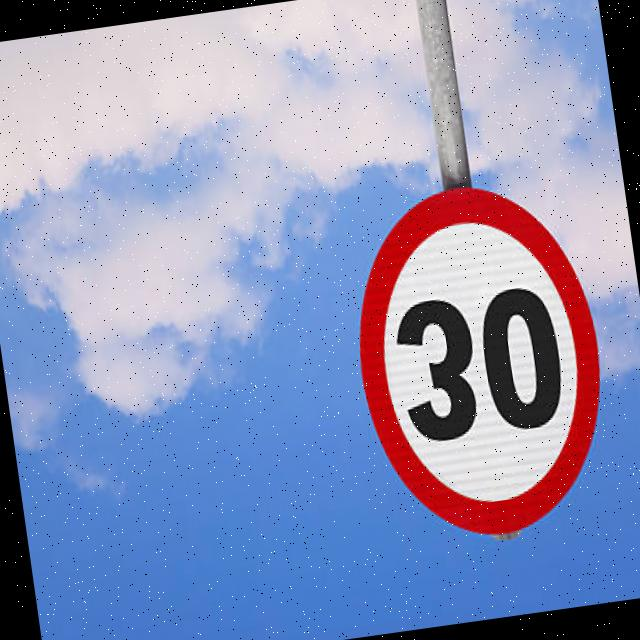speed_limit_30: (328, 164, 638, 573)
